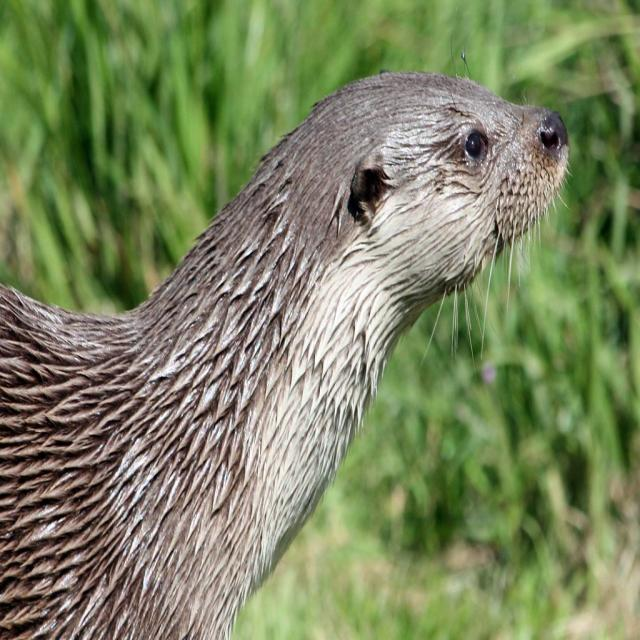otter: (1, 71, 571, 640)
